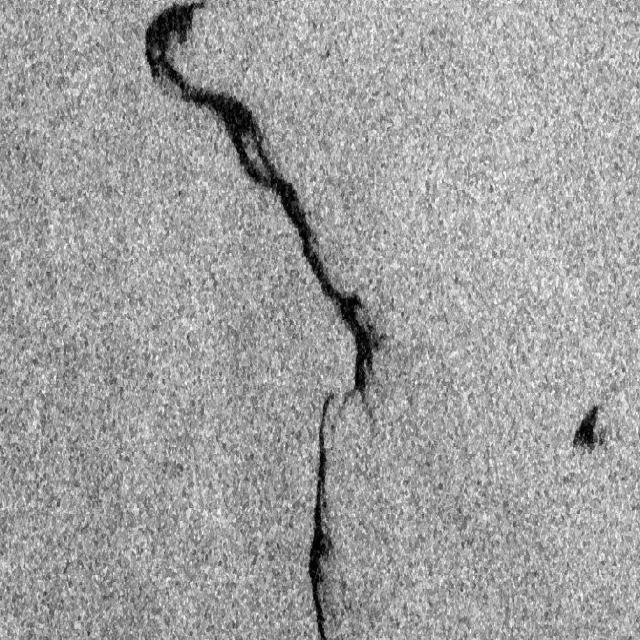oil-spill: (133, 1, 292, 187), (281, 194, 384, 388), (301, 388, 339, 636), (568, 395, 608, 463)
